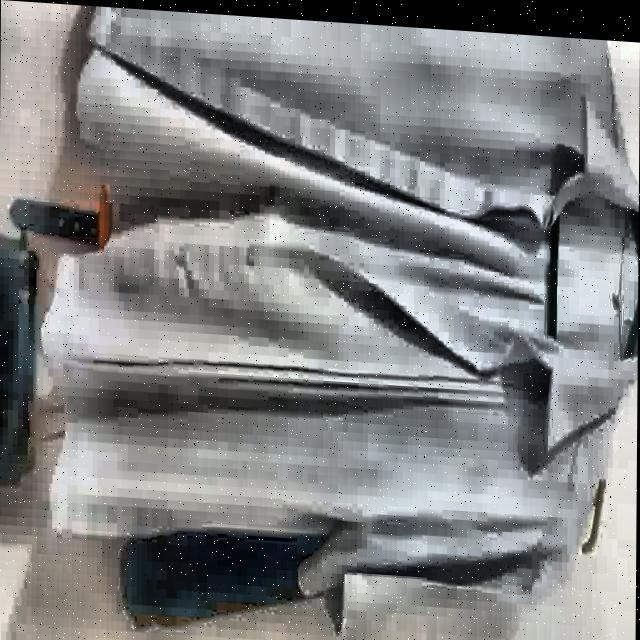clothes: (36, 13, 640, 640)
